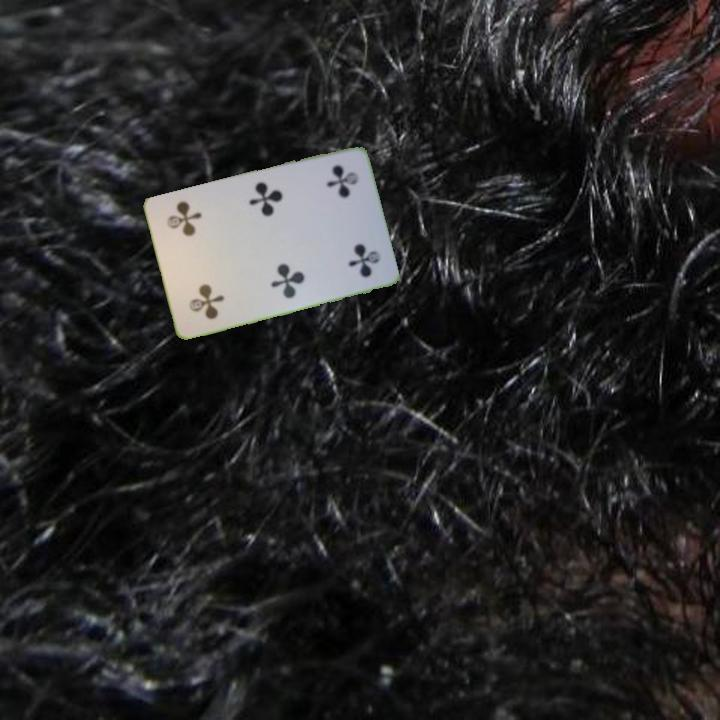c_6.png: (169, 251, 241, 330), (302, 154, 374, 232)
